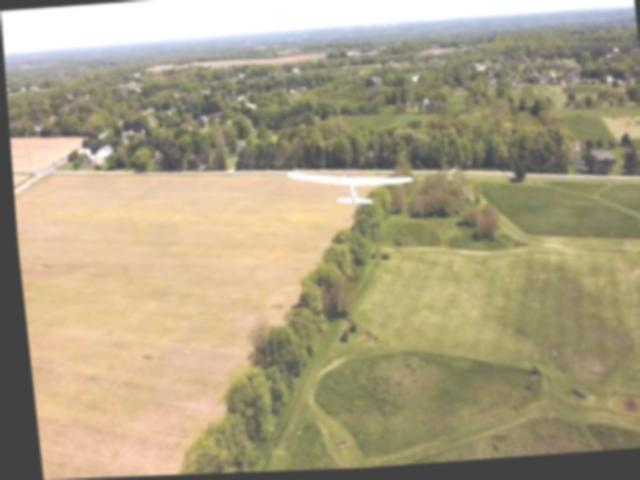uav: (275, 152, 418, 223)
